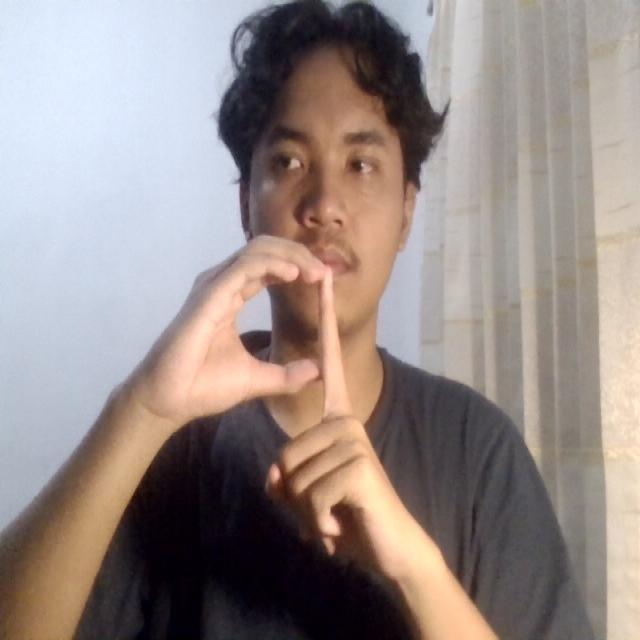D: (169, 229, 421, 582)
